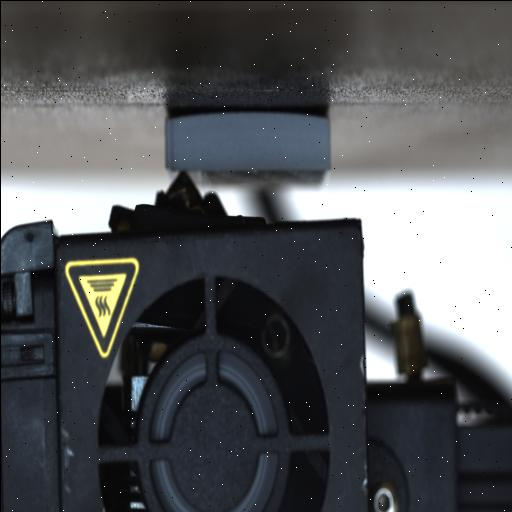warp: (302, 106, 342, 128), (158, 112, 181, 132)
